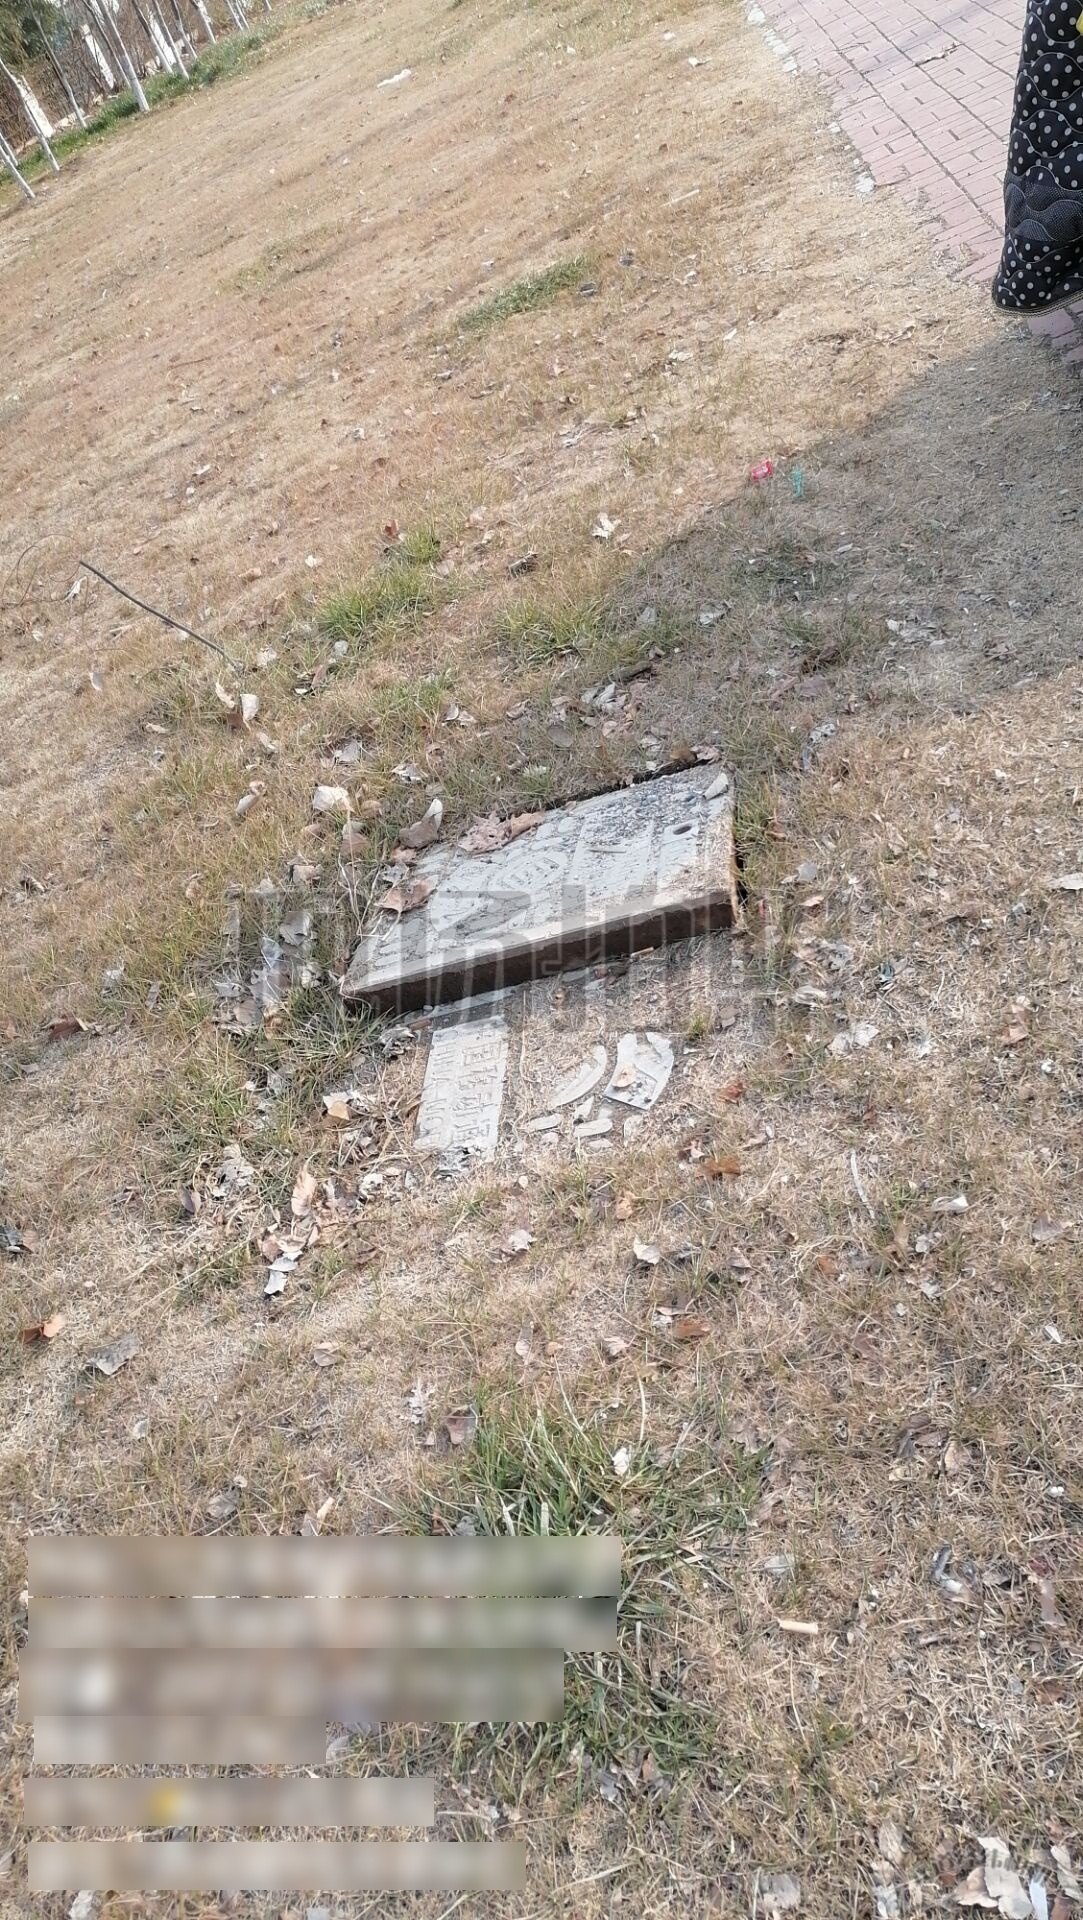uncovered: (313, 737, 818, 1019)
